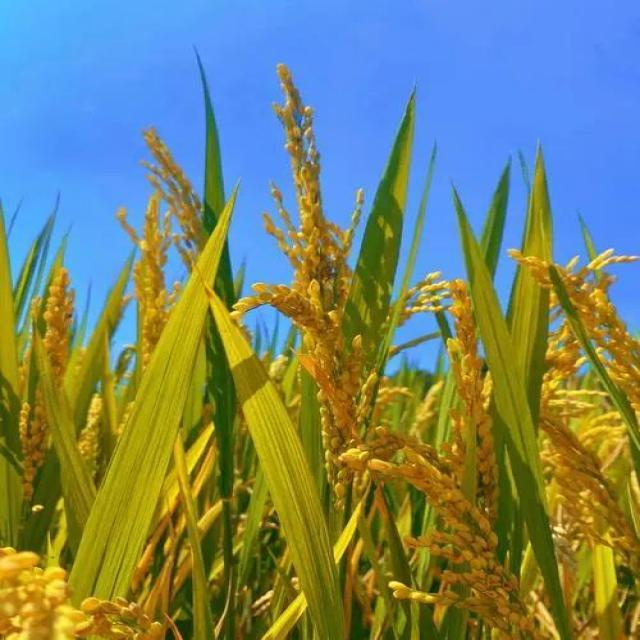Padi: (350, 210, 568, 636), (204, 20, 368, 496), (472, 154, 640, 390), (16, 204, 142, 498)
